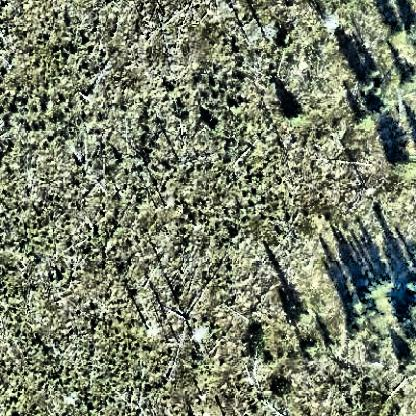tree-top: (388, 146, 414, 177), (365, 276, 396, 302), (282, 100, 311, 126), (246, 323, 269, 355), (290, 305, 315, 329), (387, 25, 410, 50), (272, 376, 296, 397), (346, 290, 367, 311), (363, 64, 384, 82), (376, 97, 393, 118), (356, 107, 373, 127), (302, 337, 319, 355), (397, 75, 416, 91), (400, 355, 416, 371), (348, 313, 364, 329), (207, 118, 221, 133)
